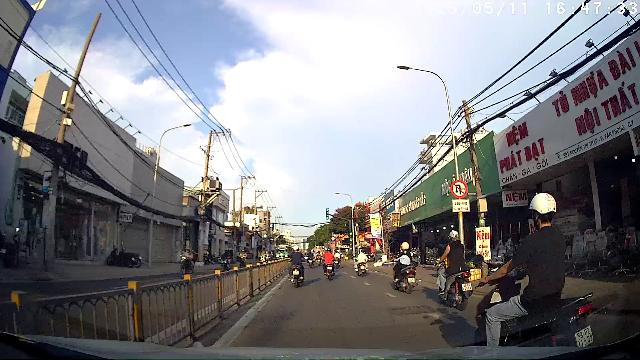124b-cam-oto-quay-dau-xe: (450, 180, 468, 198)
